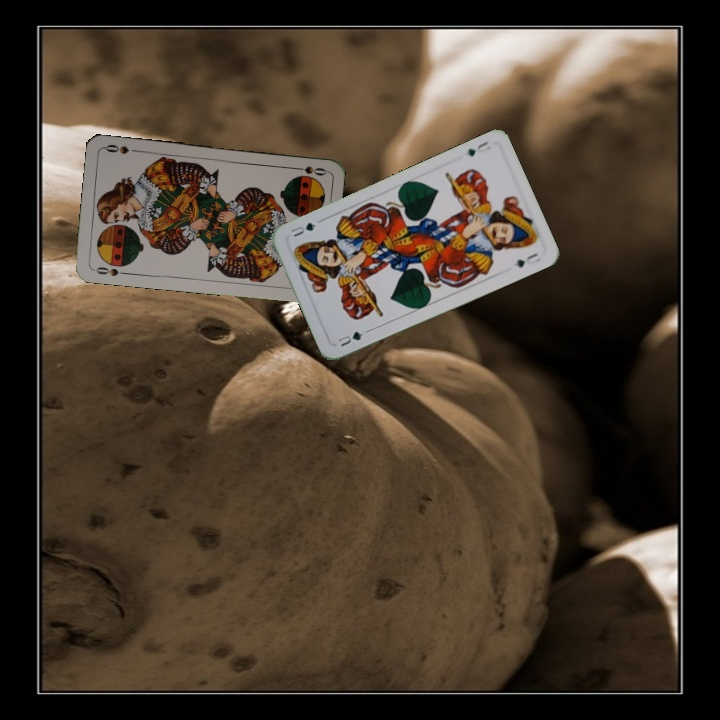GU: (334, 327, 366, 349), (462, 137, 493, 159)
SO: (288, 162, 329, 178), (89, 262, 129, 278)
